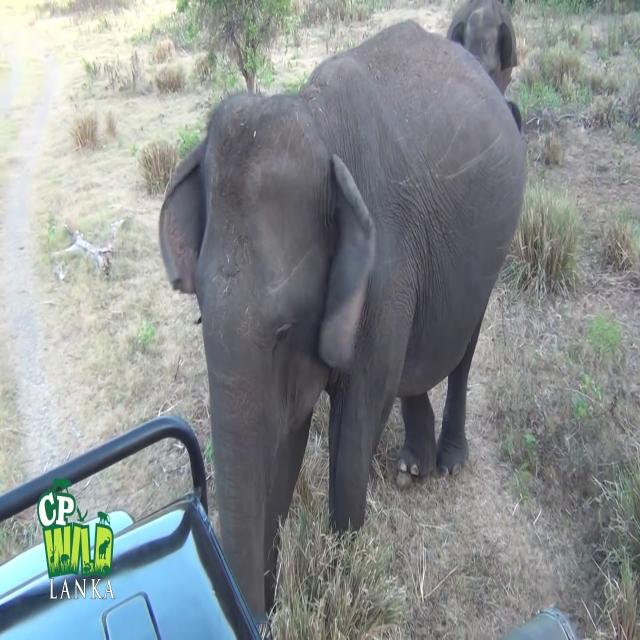Elephant: (158, 17, 528, 627)
